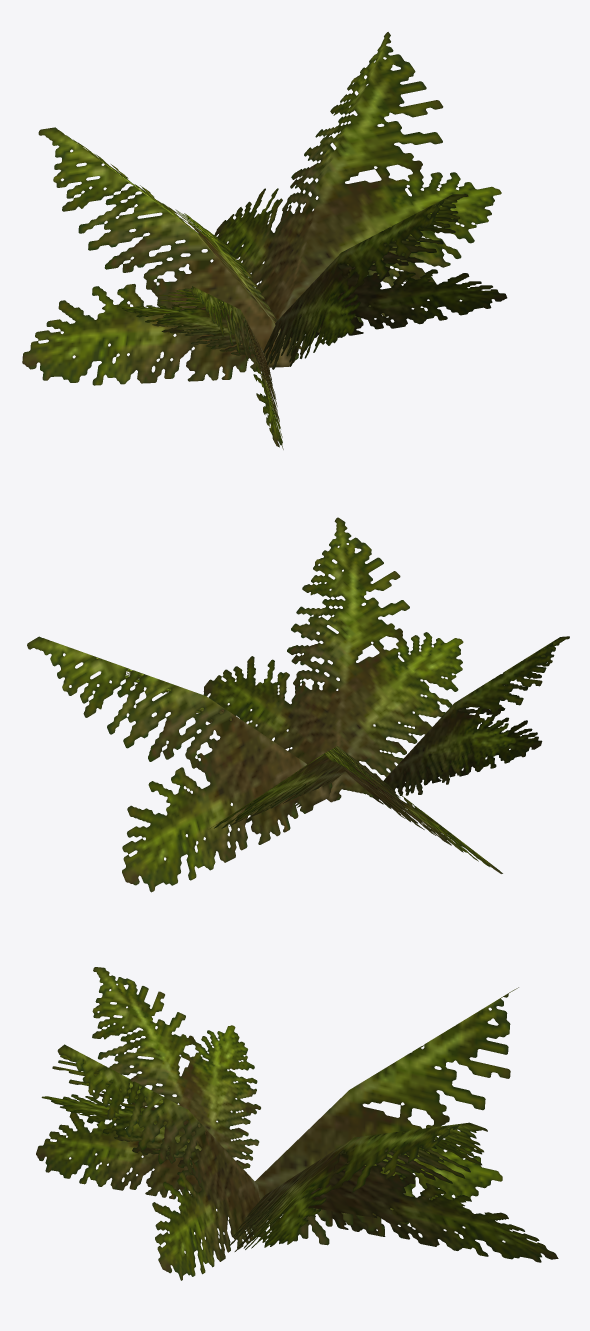
Rendered from naflbu17.dae.
The picture shows the model from 3 angles, top to bottom: view 1: azimuth 30°, elevation 25°; view 2: azimuth 150°, elevation 25°; view 3: azimuth 270°, elevation 25°; orthographic projection. The views are drawn at different scales.
Parts seen in each view (by area): view 1: crown1; view 2: crown1; view 3: crown1.
Part boxes in pixels (left/top/right/bottom): crown1: left=22, top=32, right=507, bottom=449; crown1: left=27, top=517, right=569, bottom=892; crown1: left=36, top=967, right=558, bottom=1280.
Size of the model in its own units: 0.7783 by 0.7124 by 0.369.
1 material, 1 textured.
